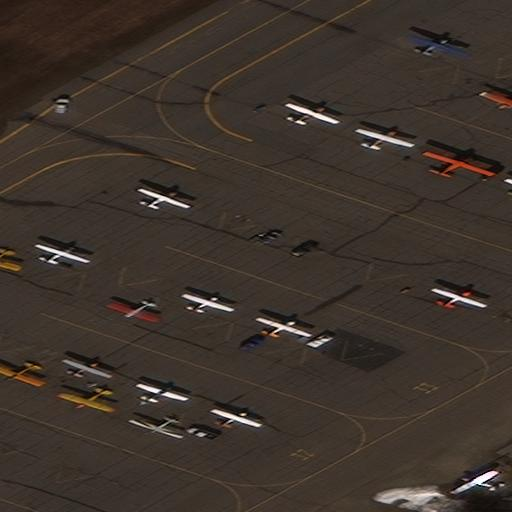Small Civil Transport: (425, 150, 495, 175), (56, 388, 110, 413), (357, 128, 414, 149), (409, 34, 468, 54), (106, 301, 158, 323), (127, 418, 181, 439), (287, 102, 339, 123), (36, 243, 90, 263), (433, 287, 487, 307), (258, 316, 313, 335), (139, 187, 191, 207), (138, 382, 190, 401), (450, 470, 494, 492), (183, 293, 234, 311), (0, 364, 39, 387), (64, 358, 113, 376), (213, 408, 262, 426), (478, 91, 512, 111), (0, 248, 17, 271)
